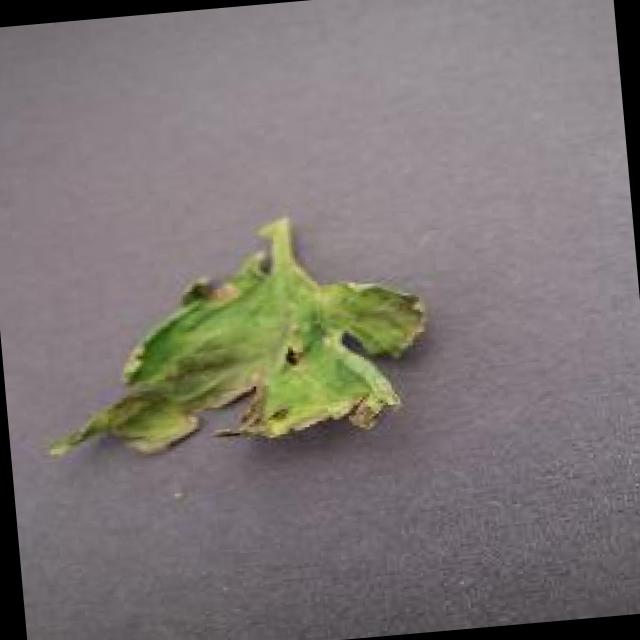Tomato_Late_Blight: (31, 196, 454, 476)
